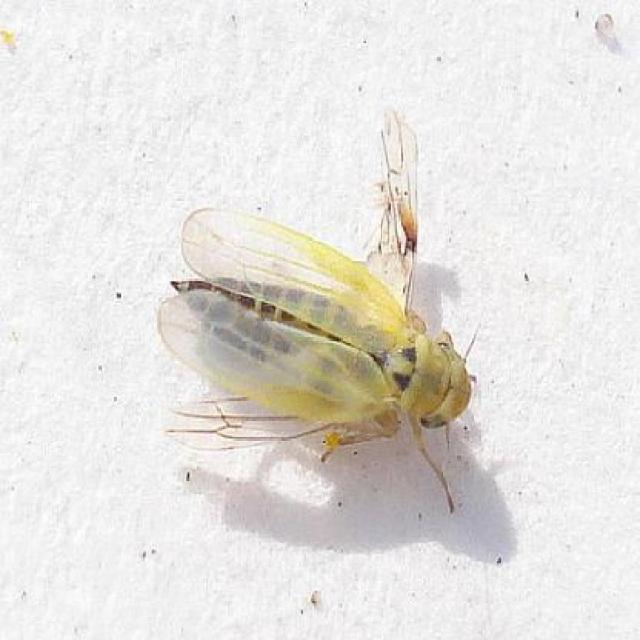green-leafhopper: (169, 197, 457, 481)
